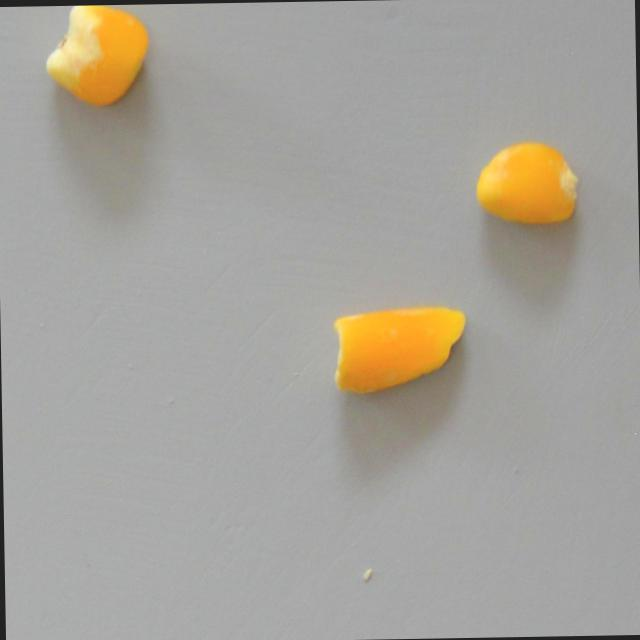estandar: (316, 288, 477, 397), (463, 136, 585, 234)
punto_negro: (40, 3, 150, 110)
